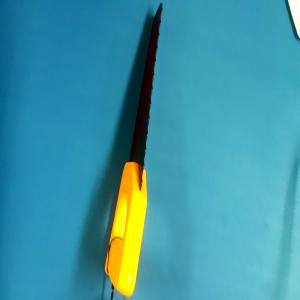serrote: (104, 2, 163, 297)
